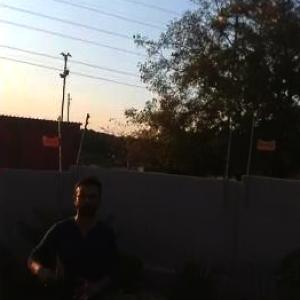follow: (20, 170, 130, 298)
